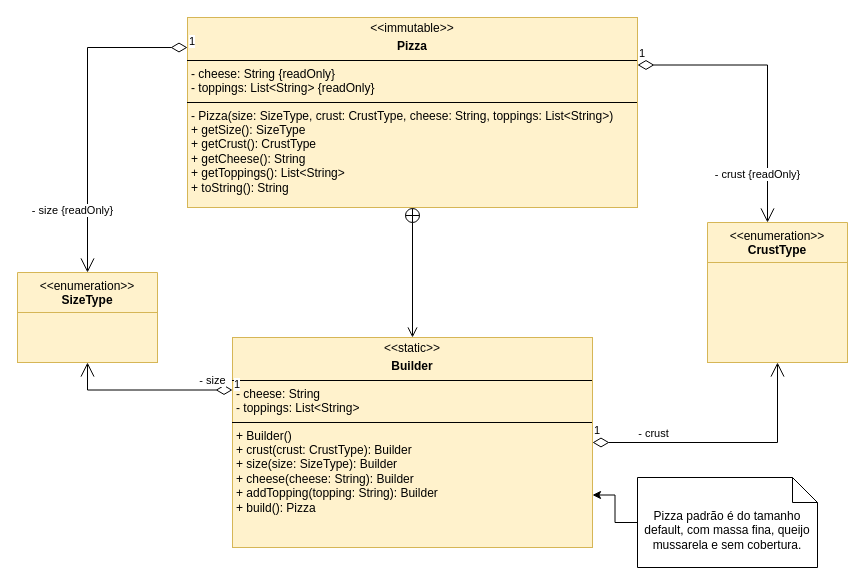
This 865x585 diagram has some shape labels left out. Here are the shapes that lost their labels. From the top down, the box of each, then its label:
(706, 262, 848, 362): THIN THICK CHEESE_STUFFED GLUTEN_FREE WHOLE_WHEAT
(16, 312, 158, 362): SMALL DEFAULT LARGE
